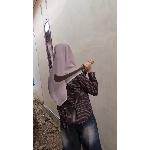Golok: (52, 59, 94, 83)
